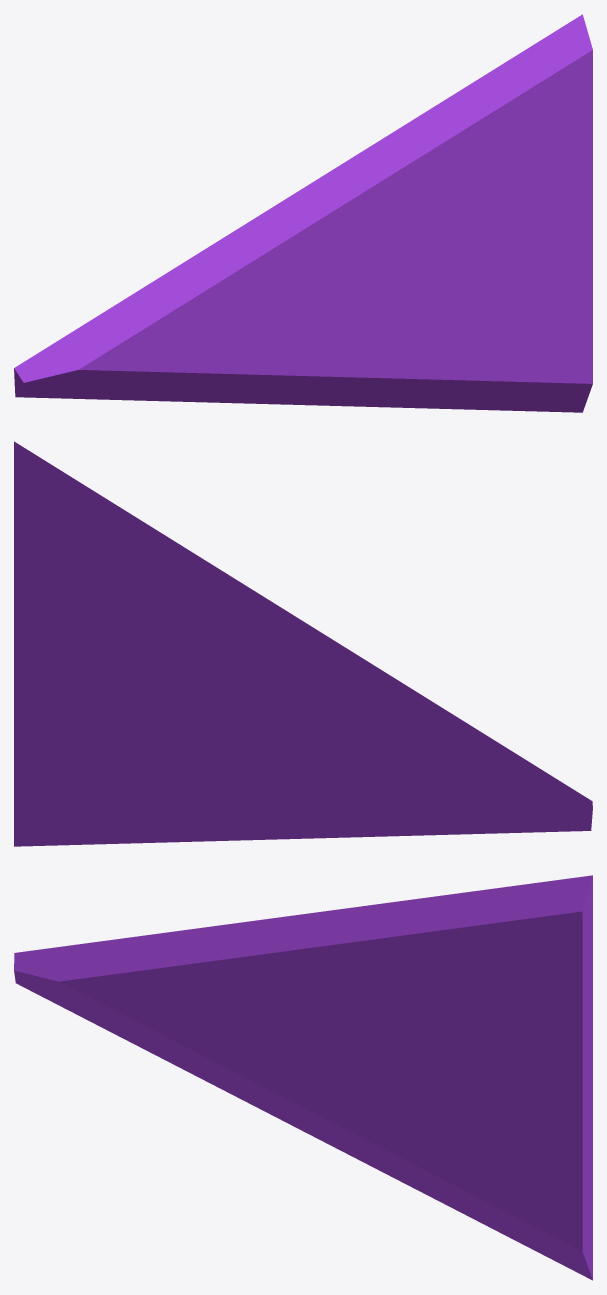
Rendered from Glass_15_3_chunks.fbx.
3 renders of one model, top to bottom at view 1: azimuth 30°, elevation 25°; view 2: azimuth 150°, elevation 25°; view 3: azimuth 330°, elevation 25°, orthographic.
Parts seen in each view (by area): view 1: Glass_15_3_0, Glass_15_3_2, Glass_15_3_1, Glass_15_3_6, Glass_15_3_3, Glass_15_3_5, Glass_15_3_4; view 2: Glass_15_3_0, Glass_15_3_1, Glass_15_3_6, Glass_15_3_2, Glass_15_3_3, Glass_15_3_4, Glass_15_3_5; view 3: Glass_15_3_0, Glass_15_3_2, Glass_15_3_6, Glass_15_3_1, Glass_15_3_3, Glass_15_3_5, Glass_15_3_4.
Boxes of the visible parts, x1,y1,x2,y2 form: Glass_15_3_0: (300, 14, 592, 322); Glass_15_3_2: (18, 190, 322, 383); Glass_15_3_1: (14, 327, 290, 403); Glass_15_3_6: (407, 348, 592, 412); Glass_15_3_3: (264, 296, 417, 385); Glass_15_3_5: (410, 305, 592, 359); Glass_15_3_4: (261, 344, 432, 407); Glass_15_3_0: (14, 441, 301, 758); Glass_15_3_1: (288, 713, 592, 837); Glass_15_3_6: (14, 750, 203, 846); Glass_15_3_2: (301, 620, 592, 806); Glass_15_3_3: (180, 731, 331, 818); Glass_15_3_4: (193, 783, 340, 841); Glass_15_3_5: (97, 742, 182, 756); Glass_15_3_0: (305, 875, 592, 1192); Glass_15_3_2: (14, 914, 307, 1042); Glass_15_3_6: (414, 1145, 592, 1280); Glass_15_3_1: (14, 952, 274, 1111); Glass_15_3_3: (250, 1028, 404, 1119); Glass_15_3_5: (397, 1085, 588, 1214); Glass_15_3_4: (256, 1092, 418, 1188).
Bounding box in the file's own units: 871 × 583 × 27.2.
